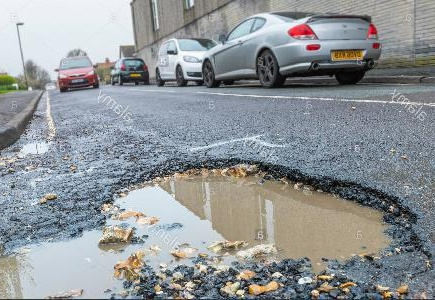pothole: (94, 153, 422, 285), (0, 218, 152, 299), (19, 136, 53, 155)
